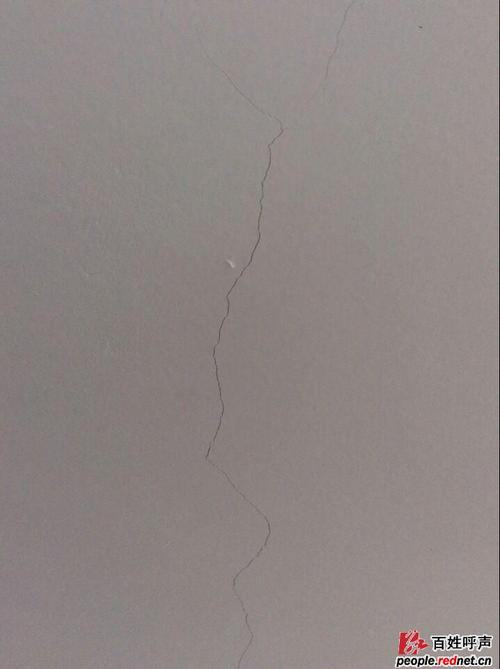Spalling: (203, 1, 284, 669)
